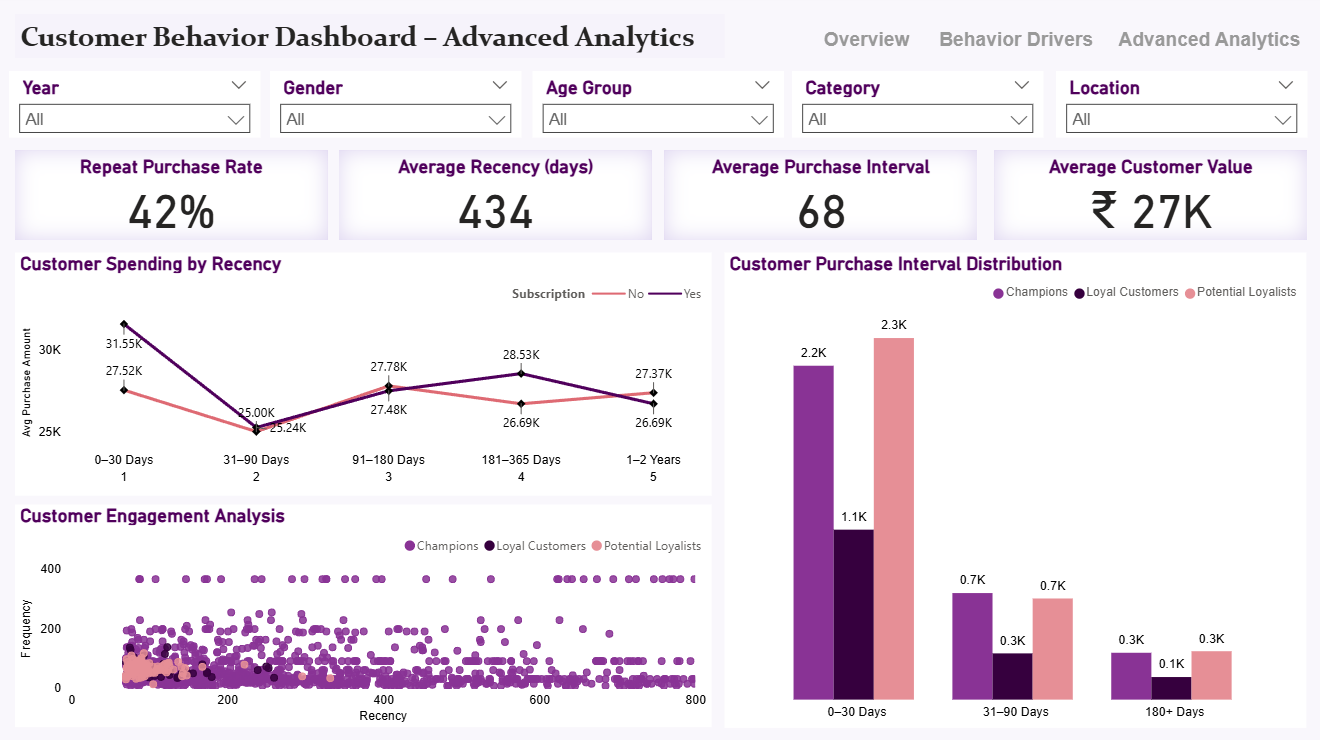

This screenshot's page, from the dashboard's own definition file:
{"tool":"powerbi","page":{"name":"Advanced Analytics","canvas":[1280,720],"ordinal":2},"visuals":[{"type":"shape","box":[0,0,1279.4,57.2],"z":0},{"type":"shape","box":[0,134.8,252.9,99.7],"z":1000},{"type":"shape","box":[252.9,134.8,252.9,99.7],"z":2000},{"type":"shape","box":[505.8,134.8,252.9,99.7],"z":3000},{"type":"textbox","box":[14.8,14.8,688.6,42.5],"z":4000},{"type":"actionButton","box":[777.2,14.8,127.4,49.8],"z":5000},{"type":"actionButton","box":[904.6,14.8,164.3,49.8],"z":6000},{"type":"actionButton","box":[1068.9,14.8,210.5,49.8],"z":7000},{"type":"lineChart","title":"Customer Spending by Recency","fields":{"Y":["customer_retail_data.Avg Purchase Amount"],"Category":["customer_retail_data.Recency Bin Sort","customer_retail_data.Recency Bin"],"Series":["customer_retail_data.subscription_status"]},"box":[14.8,245.5,675.7,236.3],"z":8000},{"type":"slicer","fields":{"Values":["customer_retail_data.Year"]},"box":[9.2,70.2,243.7,64.6],"z":9000},{"type":"slicer","fields":{"Values":["customer_retail_data.gender"]},"box":[262.2,70.2,243.7,64.6],"z":10000},{"type":"slicer","fields":{"Values":["customer_retail_data.age_group"]},"box":[516.9,70.2,243.7,64.6],"z":11000},{"type":"slicer","fields":{"Values":["customer_retail_data.category"]},"box":[768,70.2,243.7,64.6],"z":12000},{"type":"slicer","fields":{"Values":["customer_retail_data.location"]},"box":[1024.6,70.2,243.7,64.6],"z":13000},{"type":"group","id":"g1","title":"Group 1","box":[14.8,147.7,1253.5,86.8],"z":14000},{"type":"card","fields":{"Values":["customer_retail_data.Repeat Purchases Rate"]},"box":[14.8,147.7,303.6,86.8],"z":14000,"group":"g1"},{"type":"card","fields":{"Values":["customer_retail_data.Avg Recency"]},"box":[329.9,147.7,303.6,86.8],"z":15000,"group":"g1"},{"type":"scatterChart","title":"Customer Engagement Analysis","fields":{"X":["customer_retail_data.Recency"],"Y":["customer_retail_data.Frequency"],"Category":["customer_retail_data.purchase_amount"],"Series":["customer_retail_data.Customer Segments"]},"box":[14.8,491.1,675.7,216],"z":15000},{"type":"card","fields":{"Values":["customer_retail_data.Avg Purchase Interval"]},"box":[645,147.7,303.6,86.8],"z":16000,"group":"g1"},{"type":"clusteredColumnChart","title":"Customer Purchase Interval Distribution","fields":{"Category":["customer_retail_data.Purchase Interval Group"],"Y":["CountNonNull(customer_retail_data.customer_id)"],"Series":["customer_retail_data.Customer Segments"]},"box":[703.4,245.5,564.9,461.5],"z":16000},{"type":"card","fields":{"Values":["customer_retail_data.Avg Purchase Amount"]},"box":[964.7,147.7,303.6,86.8],"z":17000,"group":"g1"}]}

Visuals, with their boxes in screenshot pixels (x1, y1, x2, y2), scaled from the page's 1280x720 canvas onto the 1320x740 screenshot:
shape: rect(0, 0, 1319, 59)
shape: rect(0, 139, 261, 241)
shape: rect(261, 139, 522, 241)
shape: rect(522, 139, 782, 241)
textbox: rect(15, 15, 725, 59)
actionButton: rect(801, 15, 933, 66)
actionButton: rect(933, 15, 1102, 66)
actionButton: rect(1102, 15, 1319, 66)
"Customer Spending by Recency" lineChart: rect(15, 252, 712, 495)
slicer - customer_retail_data.Year: rect(9, 72, 261, 139)
slicer - customer_retail_data.gender: rect(270, 72, 522, 139)
slicer - customer_retail_data.age_group: rect(533, 72, 784, 139)
slicer - customer_retail_data.category: rect(792, 72, 1043, 139)
slicer - customer_retail_data.location: rect(1057, 72, 1308, 139)
"Group 1" group: rect(15, 152, 1308, 241)
card - customer_retail_data.Repeat Purchases Rate: rect(15, 152, 328, 241)
card - customer_retail_data.Avg Recency: rect(340, 152, 653, 241)
"Customer Engagement Analysis" scatterChart: rect(15, 505, 712, 727)
card - customer_retail_data.Avg Purchase Interval: rect(665, 152, 978, 241)
"Customer Purchase Interval Distribution" clusteredColumnChart: rect(725, 252, 1308, 727)
card - customer_retail_data.Avg Purchase Amount: rect(995, 152, 1308, 241)
